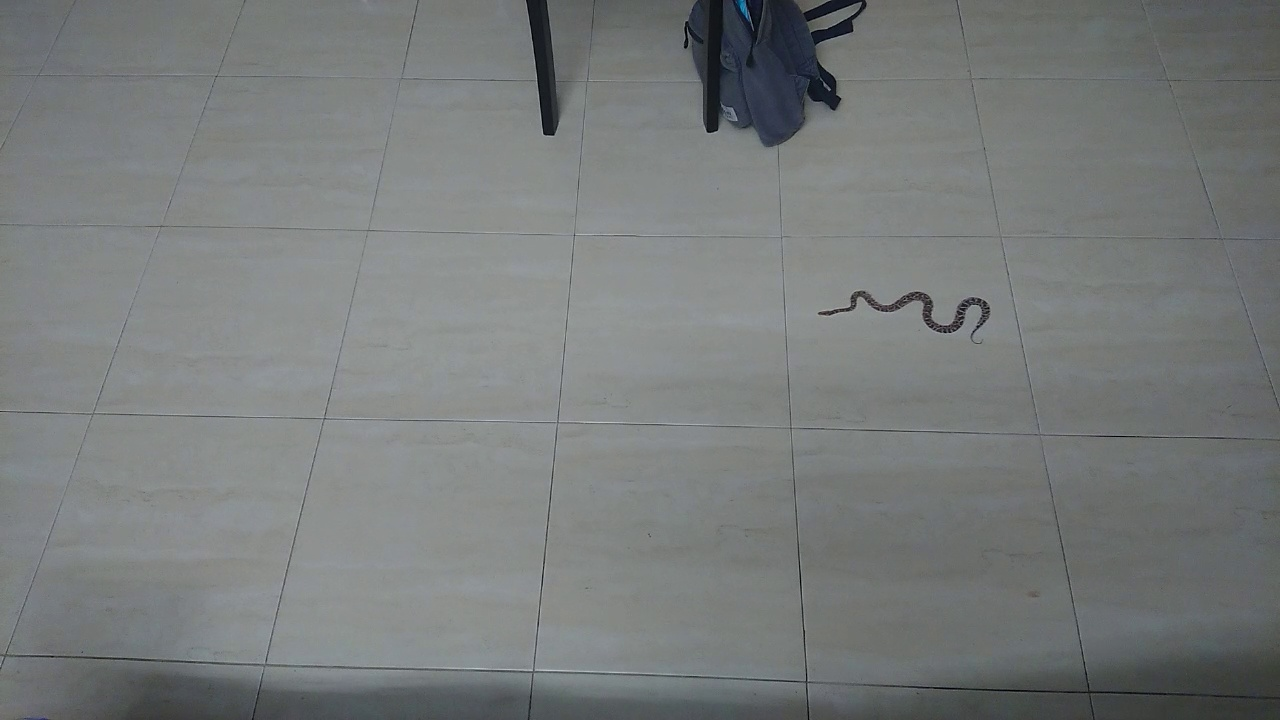snake: (805, 271, 1003, 357)
